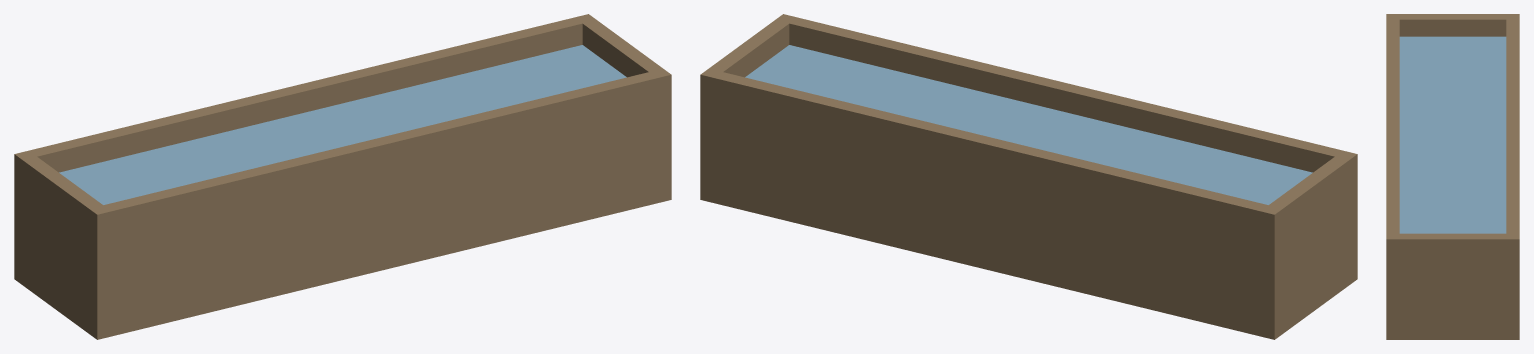
The model's file is water_trough.glb.
3 renders of one model, left to right at view 1: azimuth 30°, elevation 25°; view 2: azimuth 150°, elevation 25°; view 3: azimuth 270°, elevation 25°, orthographic. The views are drawn at different scales.
Parts seen in each view (by area): view 1: Trough_Side_-0.3, Trough_Water, Trough_Side_+0.3, Trough_Base, Trough_End_-1.2, Trough_End_+1.2; view 2: Trough_Side_+0.3, Trough_Water, Trough_Side_-0.3, Trough_Base, Trough_End_-1.2, Trough_End_+1.2; view 3: Trough_Water, Trough_End_+1.2, Trough_Side_+0.3, Trough_Side_-0.3, Trough_End_-1.2, Trough_Base.
Part boxes in pixels (x1=…): Trough_Side_-0.3: x1=89, y1=68, x2=671, y2=339; Trough_Water: x1=59, y1=45, x2=626, y2=204; Trough_Side_+0.3: x1=14, y1=14, x2=596, y2=284; Trough_Base: x1=14, y1=185, x2=671, y2=339; Trough_End_-1.2: x1=22, y1=156, x2=102, y2=318; Trough_End_+1.2: x1=582, y1=20, x2=662, y2=77; Trough_Side_+0.3: x1=700, y1=68, x2=1282, y2=338; Trough_Water: x1=745, y1=45, x2=1312, y2=204; Trough_Side_-0.3: x1=775, y1=14, x2=1357, y2=278; Trough_Base: x1=700, y1=185, x2=1357, y2=339; Trough_End_-1.2: x1=1269, y1=156, x2=1349, y2=318; Trough_End_+1.2: x1=709, y1=20, x2=789, y2=77; Trough_Water: x1=1399, y1=36, x2=1506, y2=233; Trough_End_+1.2: x1=1399, y1=233, x2=1506, y2=339; Trough_Side_+0.3: x1=1506, y1=14, x2=1519, y2=339; Trough_Side_-0.3: x1=1386, y1=14, x2=1399, y2=339; Trough_End_-1.2: x1=1399, y1=14, x2=1506, y2=36; Trough_Base: x1=1386, y1=328, x2=1519, y2=339.
Bounding box in the file's own units: 2.4 × 0.5 × 0.6.
